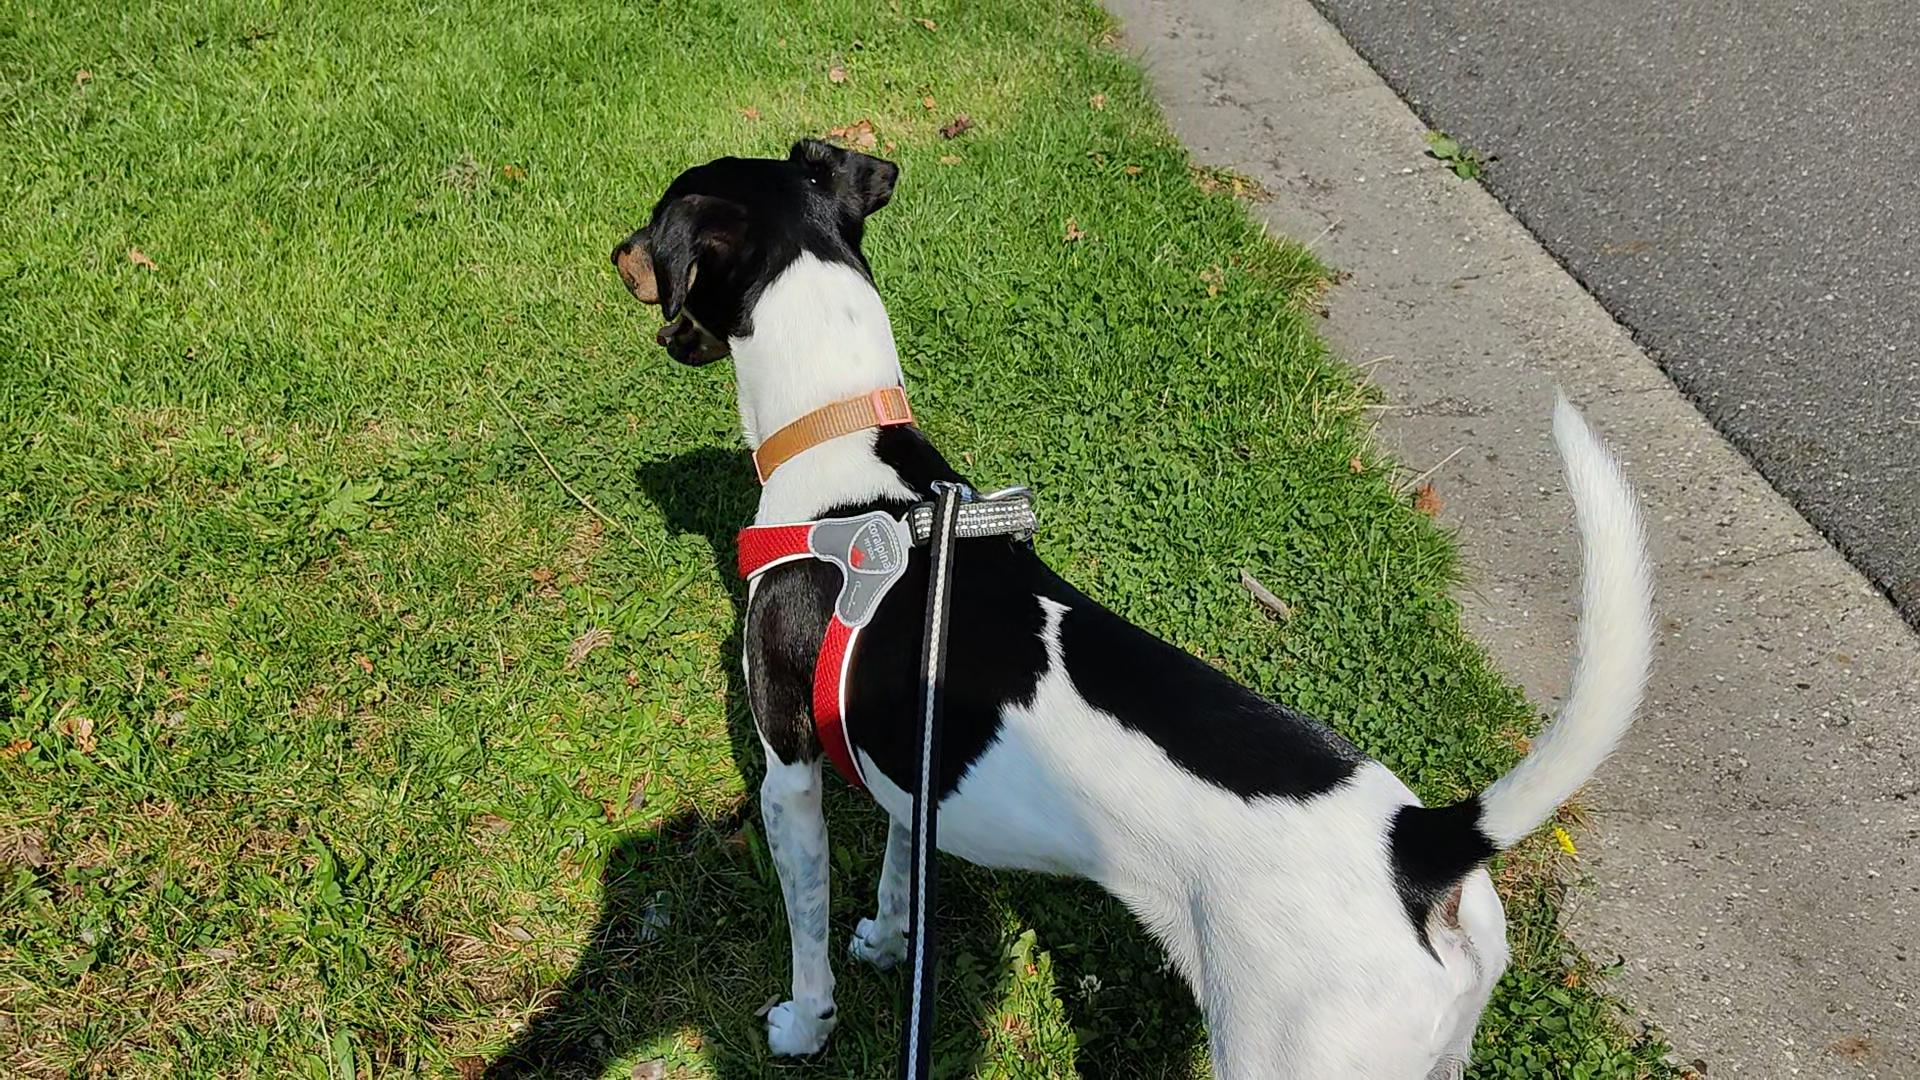Dog: (597, 117, 1673, 1079)
